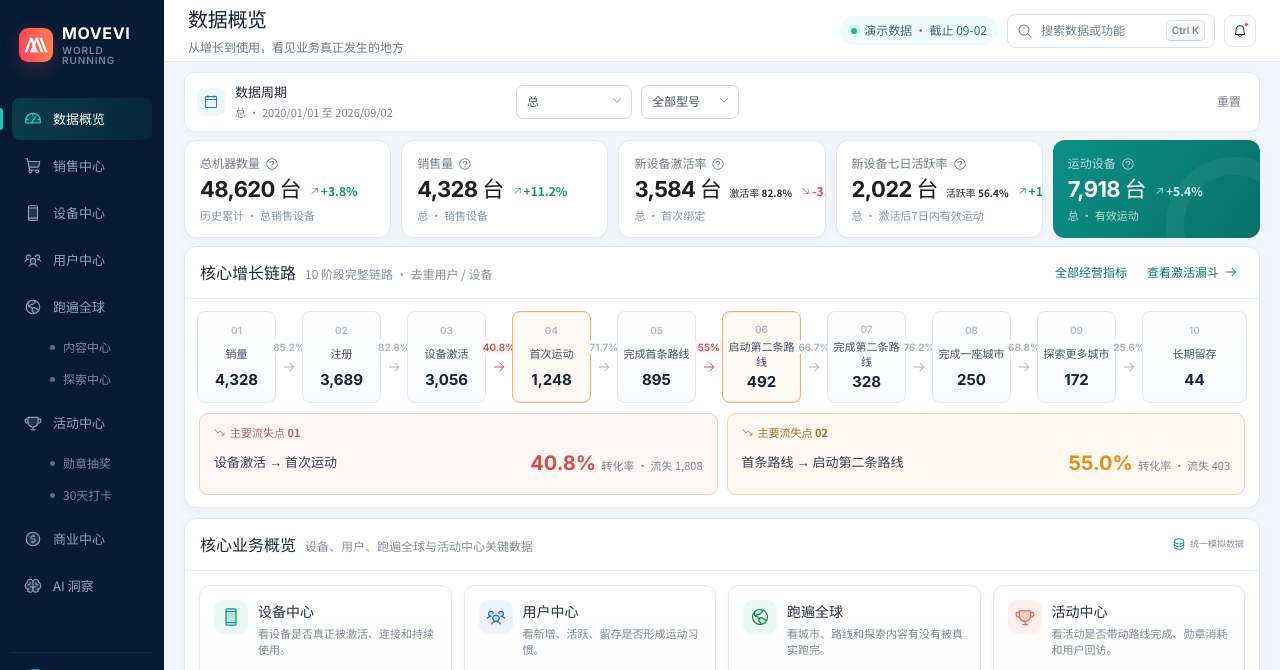
Test: MOVEVI dashboard › defines sales volume as filtered-period sales devices in dashboard drilldown
Click the button "01 销量 4,328" at (236, 357), box left=197, top=311, right=276, bottom=403
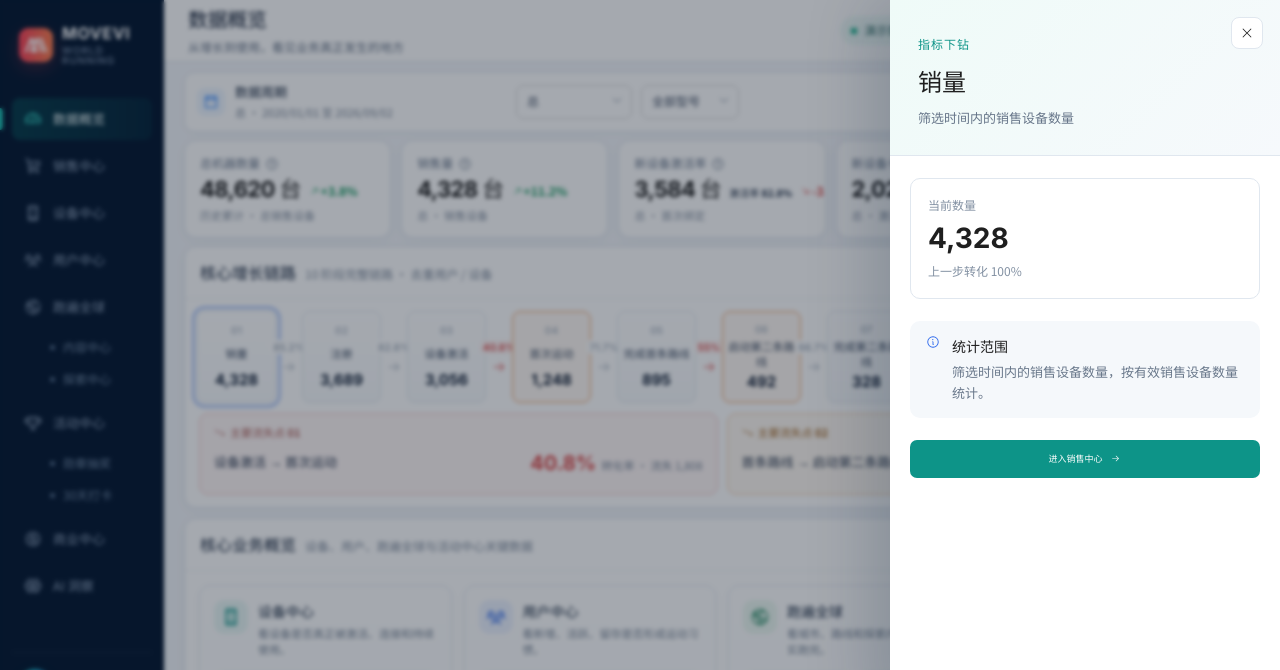
Result: the dialog shows "筛选时间内的销售设备数量" at left=918, top=108, right=1074, bottom=127
Result: the dialog shows "按有效销售设备数量统计" at left=952, top=362, right=1238, bottom=402
